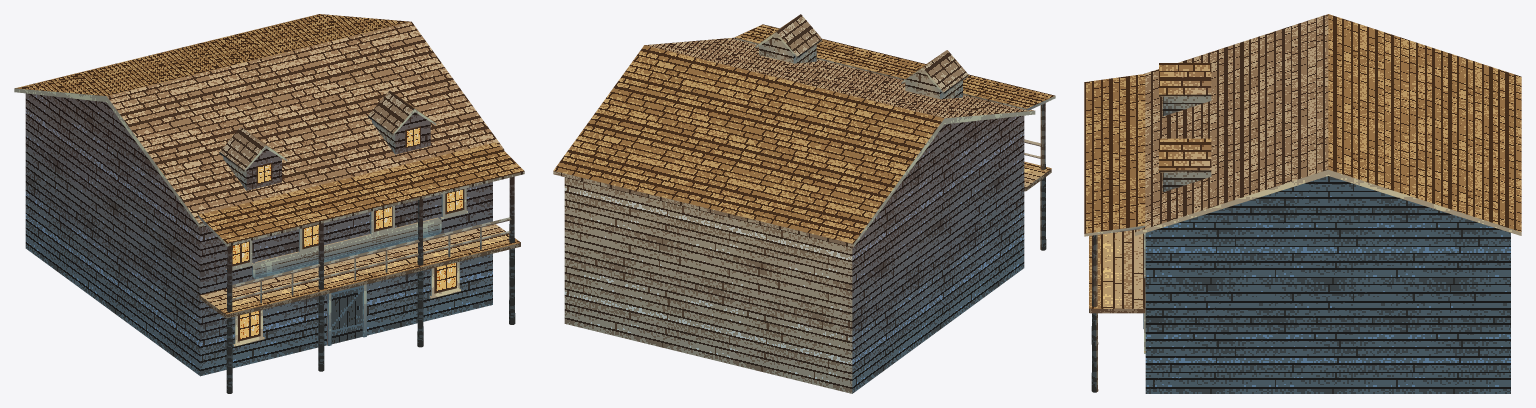
File: wtown.hotel__grand.glb
3 renders of one model, left to right at view 1: azimuth 30°, elevation 25°; view 2: azimuth 150°, elevation 25°; view 3: azimuth 270°, elevation 25°, orthographic. The views are drawn at different scales.
Visible parts, largest first — view 1: kit_body, kit_roof, kit_veranda, kit_veranda_roof, kit_card_panes, kit_dormer_roofs, kit_dormers, kit_windows, kit_trim; view 2: kit_body, kit_roof, kit_veranda_roof, kit_dormer_roofs, kit_dormers, kit_veranda; view 3: kit_body, kit_roof, kit_veranda_roof, kit_veranda, kit_dormer_roofs, kit_dormers.
Part boxes in pixels (<box>): kit_body: <box>25,93,492,376</box>; kit_roof: <box>14,14,504,227</box>; kit_veranda: <box>199,176,520,393</box>; kit_veranda_roof: <box>198,142,524,246</box>; kit_card_panes: <box>232,126,464,344</box>; kit_dormer_roofs: <box>219,90,436,171</box>; kit_dormers: <box>223,112,430,190</box>; kit_windows: <box>226,188,467,346</box>; kit_trim: <box>252,217,441,345</box>; kit_body: <box>564,115,1024,393</box>; kit_roof: <box>553,37,1035,247</box>; kit_veranda_roof: <box>734,24,1055,110</box>; kit_dormer_roofs: <box>755,14,968,93</box>; kit_dormers: <box>759,34,962,99</box>; kit_veranda: <box>1024,103,1051,250</box>; kit_body: <box>1145,176,1510,393</box>; kit_roof: <box>1135,14,1521,235</box>; kit_veranda_roof: <box>1084,74,1145,236</box>; kit_veranda: <box>1089,230,1145,392</box>; kit_dormer_roofs: <box>1159,63,1211,172</box>; kit_dormers: <box>1162,96,1211,192</box>.
Bounding box in the file's own units: 12.1 × 8.25 × 14.37.
10 materials, 10 textured.
